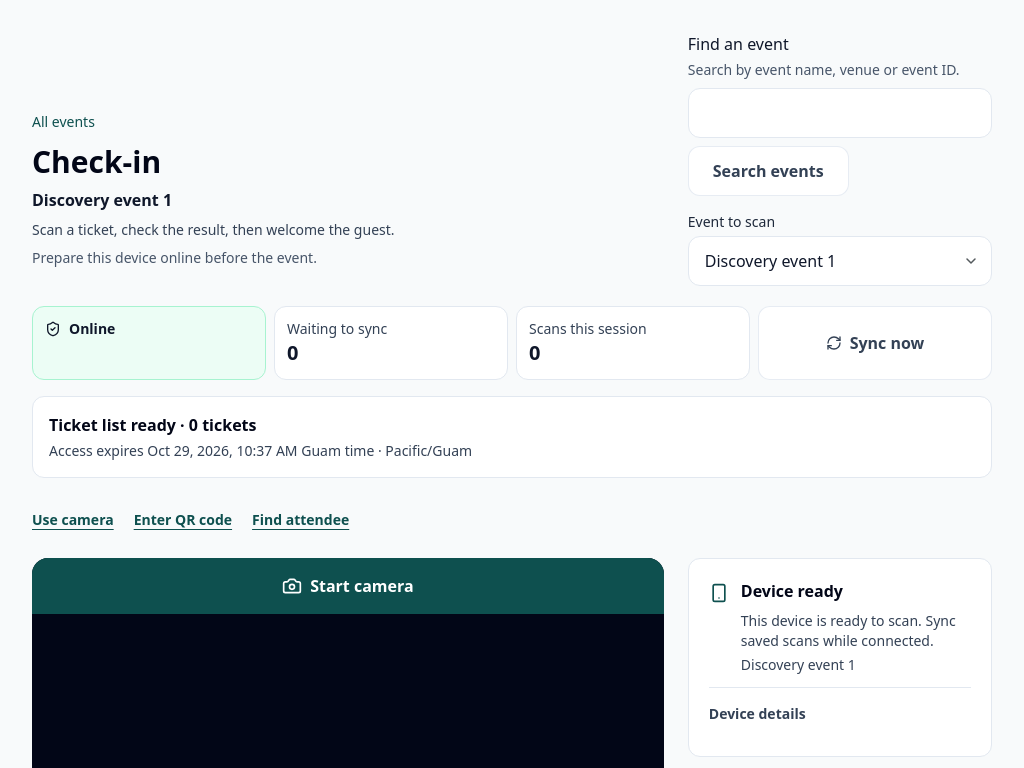
complete operational discovery › handles a prepared scanner event-list 401 without discarding pending admissions
This screenshot has width=1024, height=768.
Expected: the text "Ticket list ready · 0 tickets" is shown, [49,414,256,436]
Type "another event" into the search field labelled "Find an event" at (840, 113), box [688,88,992,138]
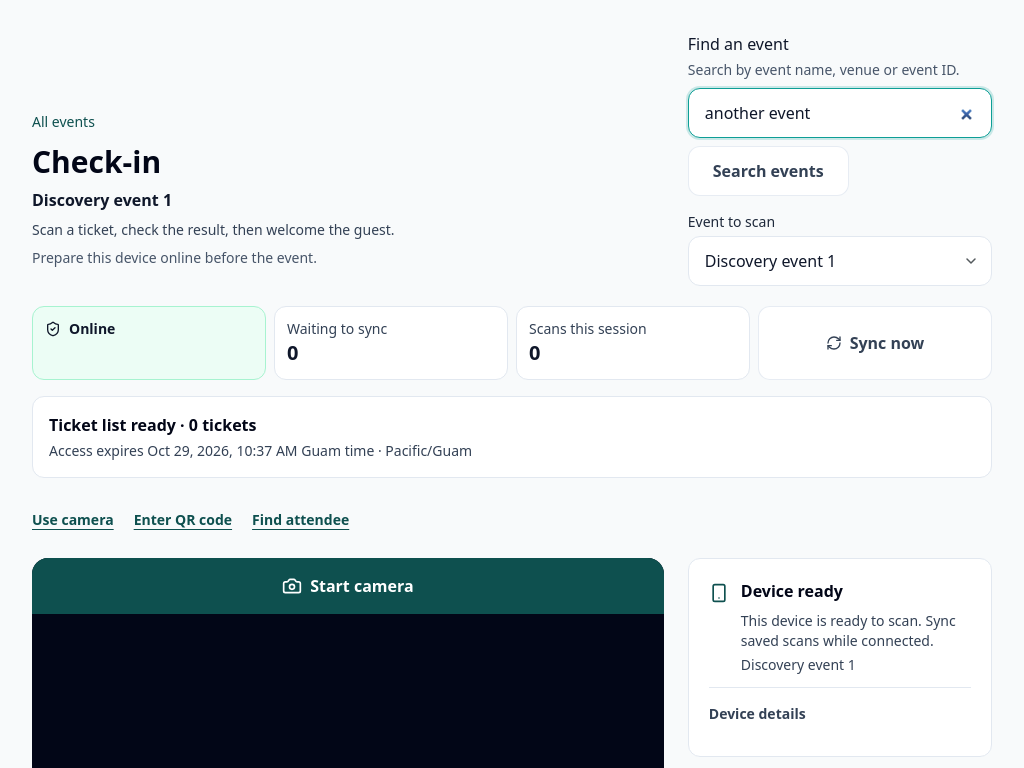
Click the button "Search events" at (768, 171), box [688,146,849,196]
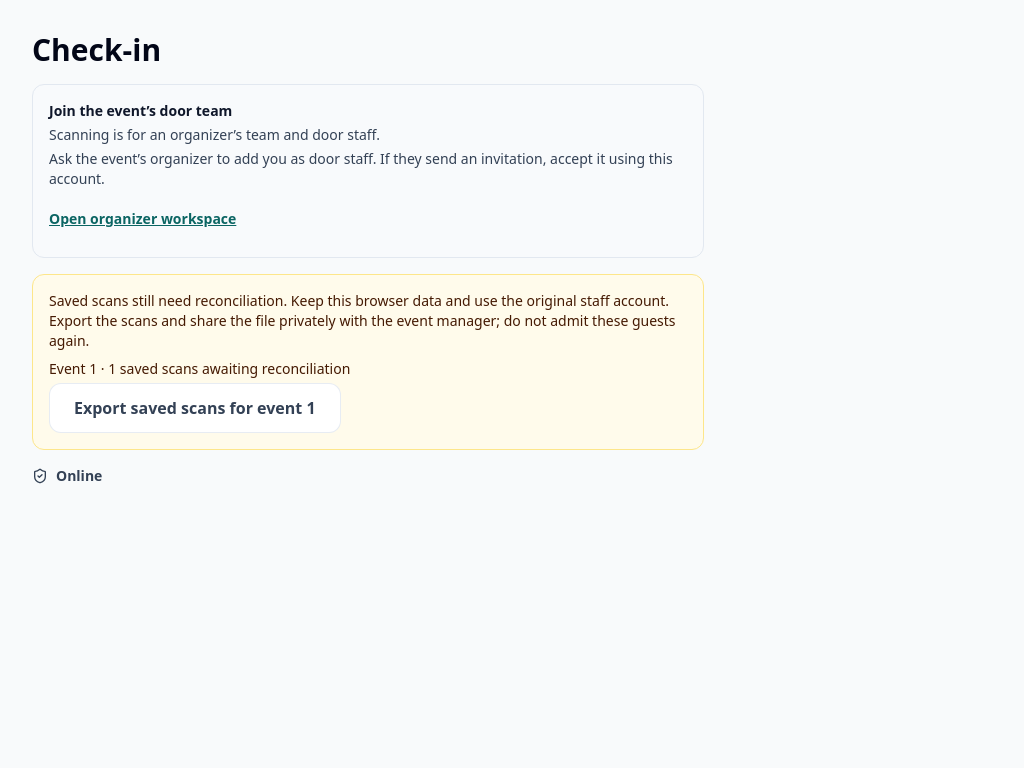
Expected: the text "Scanning is for an organizer’s team and door staff." is shown, [49,125,380,144]
Expected: the button "Start camera" is gone
Expected: the button "Export saved scans for event 1" is enabled, [49,383,340,433]
